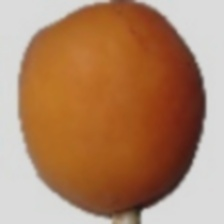apricot: (30, 24, 196, 220)
